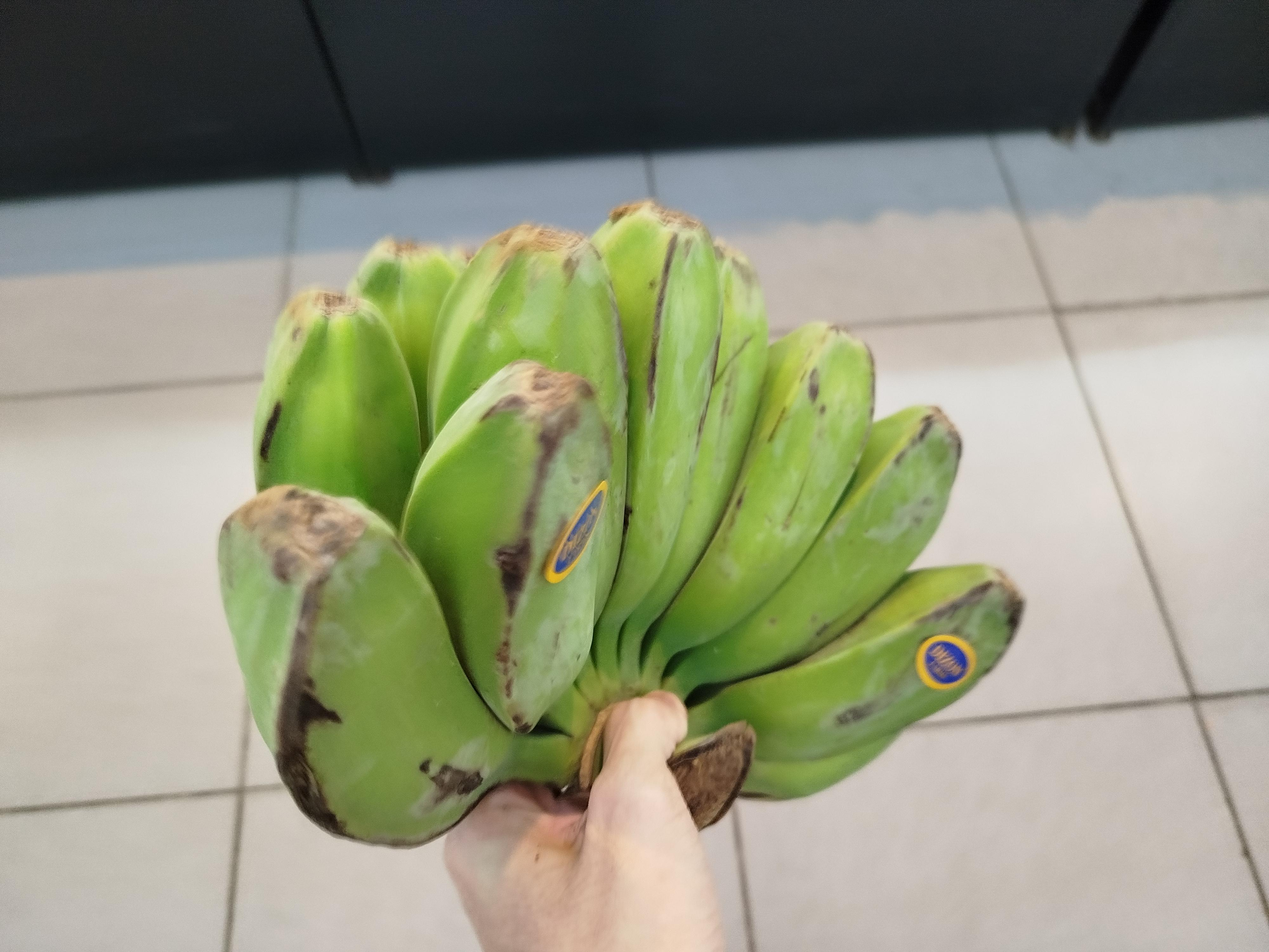underripe: (219, 204, 1023, 846)
